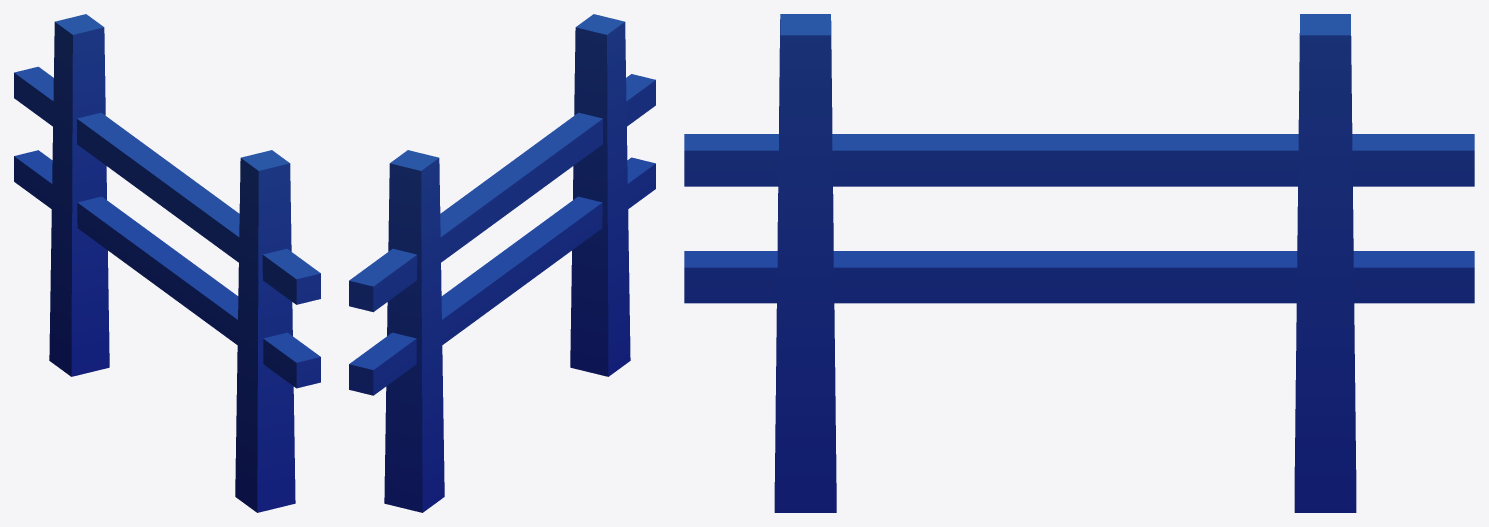
The model's file is barrière.fbx.
The picture shows the model from 3 angles, left to right: view 1: azimuth 30°, elevation 25°; view 2: azimuth 150°, elevation 25°; view 3: azimuth 270°, elevation 25°; orthographic projection. The views are drawn at different scales.
Parts seen in each view (by area): view 1: Barriere; view 2: Barriere; view 3: Barriere.
Part boxes in pixels (x1,y1,x2,y2): Barriere: [14, 14, 320, 512]; Barriere: [349, 14, 655, 512]; Barriere: [684, 14, 1474, 512].
Bounding box in the file's own units: 53.28 × 452 × 682.
